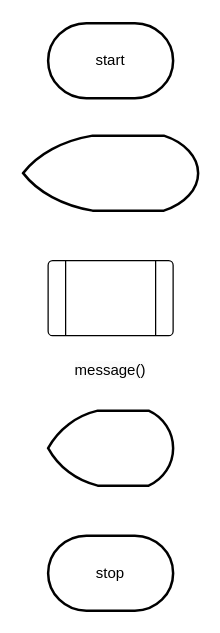
Image size: 220x633. Some labels were removed from this diagram. Each missing label, with the box of its shape:
goodby: (46, 409, 174, 486)
i have a message for u: (21, 134, 199, 211)
